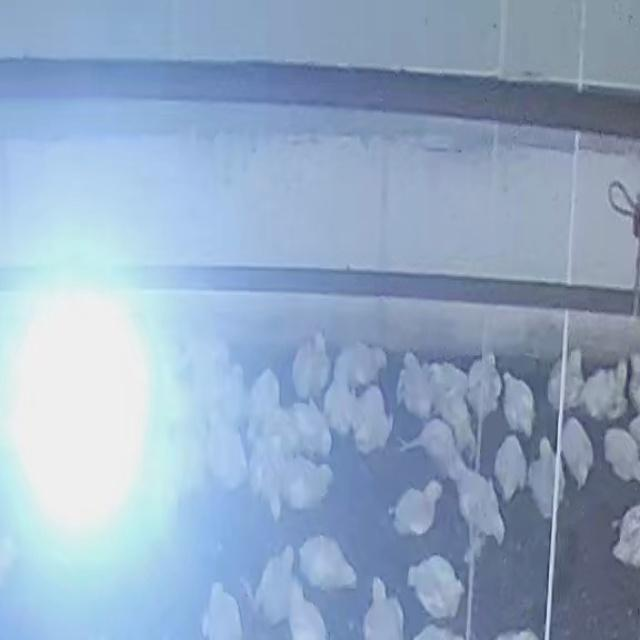chicken: (270, 451, 335, 518), (405, 553, 465, 624), (296, 533, 359, 593), (458, 468, 507, 544), (203, 418, 252, 492), (404, 423, 467, 479), (254, 546, 297, 626), (391, 482, 444, 539), (465, 353, 503, 430), (361, 576, 406, 640), (336, 338, 386, 394), (352, 385, 392, 454), (527, 438, 561, 518), (291, 332, 330, 401), (578, 365, 624, 423), (560, 417, 595, 488), (202, 582, 245, 639), (493, 433, 528, 501), (500, 370, 536, 436), (290, 399, 332, 455), (253, 445, 284, 519), (546, 348, 580, 414), (323, 370, 358, 434), (602, 426, 639, 486), (426, 358, 470, 406), (288, 586, 328, 638), (610, 502, 640, 569), (401, 353, 431, 417), (248, 368, 280, 428)
